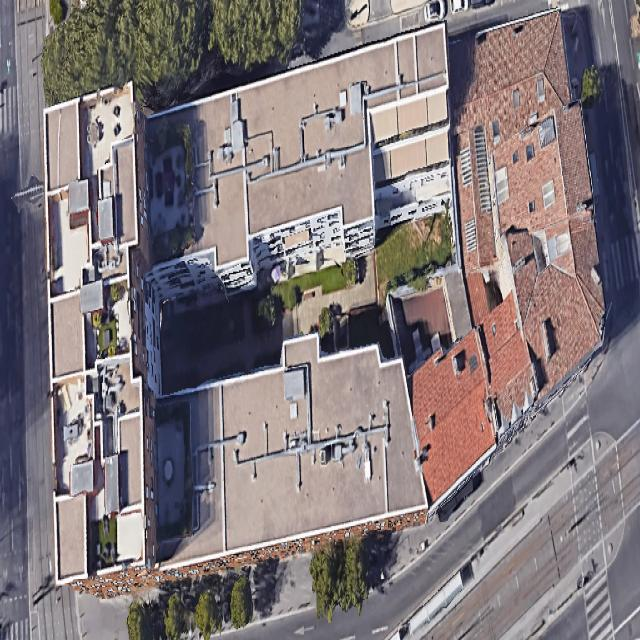immeuble: (41, 23, 462, 583), (439, 8, 611, 400), (397, 328, 508, 509)
